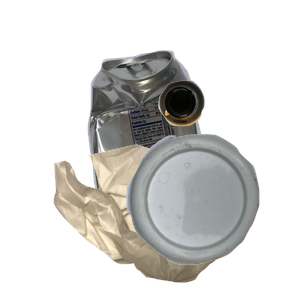glass: (156, 78, 300, 197)
metal: (85, 48, 300, 228)
plastic: (124, 132, 300, 300)
trash: (51, 142, 278, 300)
